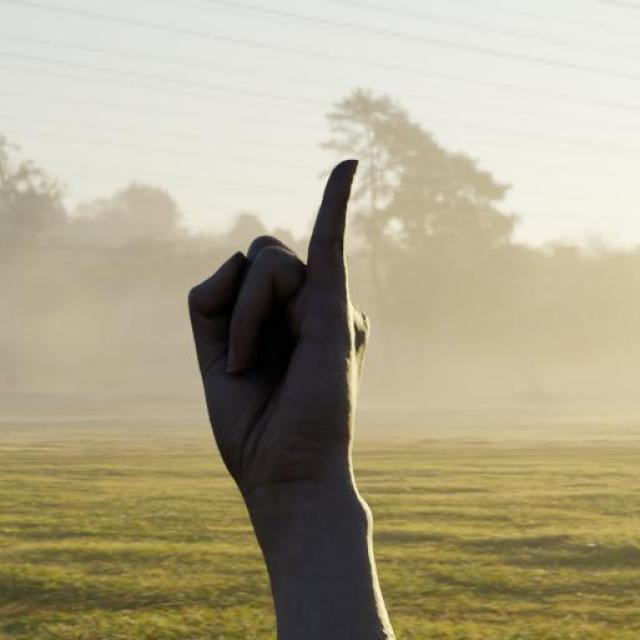I: (158, 121, 410, 526)
